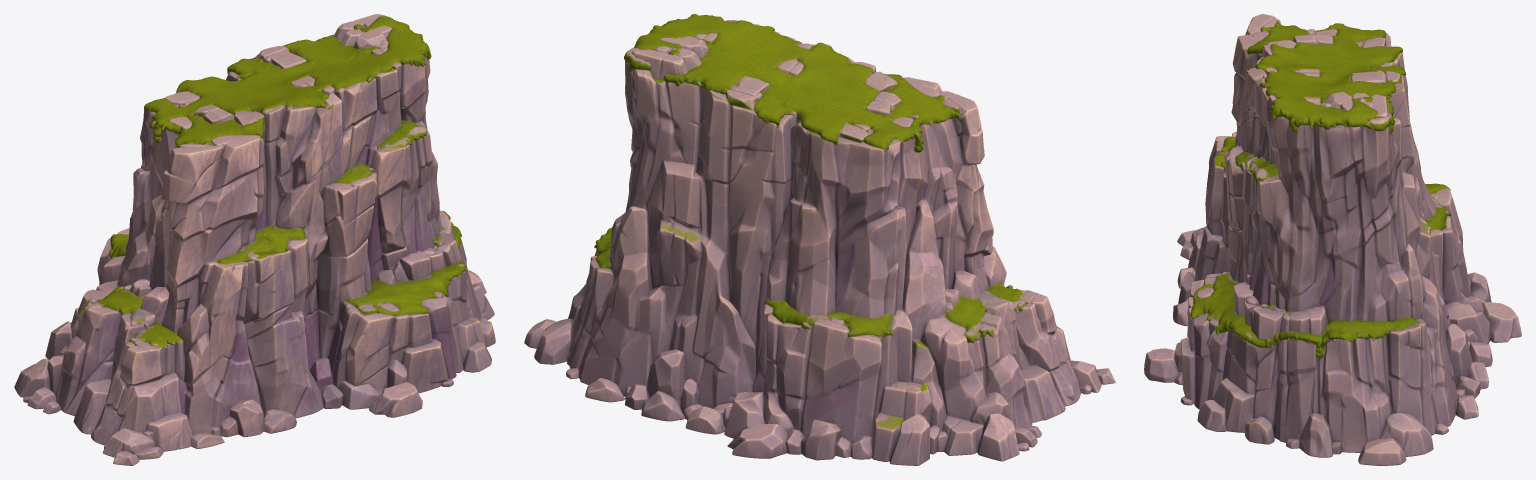
File: 12-mountain-rounded.glb
3 renders of one model, left to right at view 1: azimuth 30°, elevation 25°; view 2: azimuth 150°, elevation 25°; view 3: azimuth 270°, elevation 25°, orthographic. The views are drawn at different scales.
Bounding box in the file's own units: 1.89 × 1.16 × 1.3.
1 material, 1 textured.
